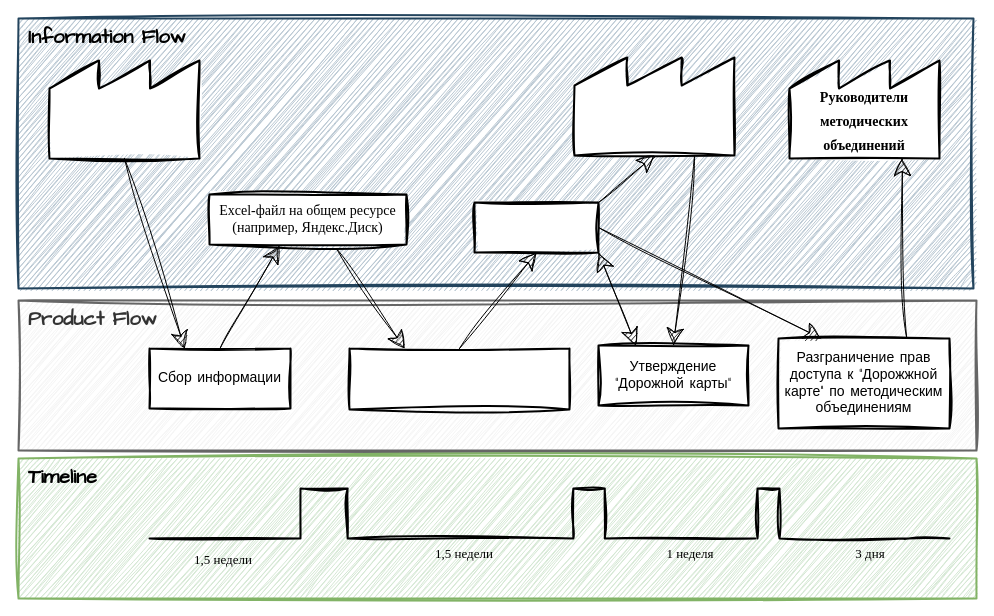
Some shapes in this 994 by 616 pixel diagram are drawn without their labels. Each missing label, with the centre of its shape:
Excel-форма "Дорожной карты": the point at 536,227
Директор образовательного учреждения: the point at 654,105
Систематизация и анализ данных (формирование Excel-формы): the point at 459,378
Учебно-воспитательный отдел: the point at 124,108
